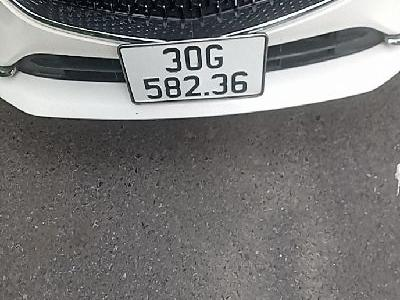number: (117, 38, 271, 103)
